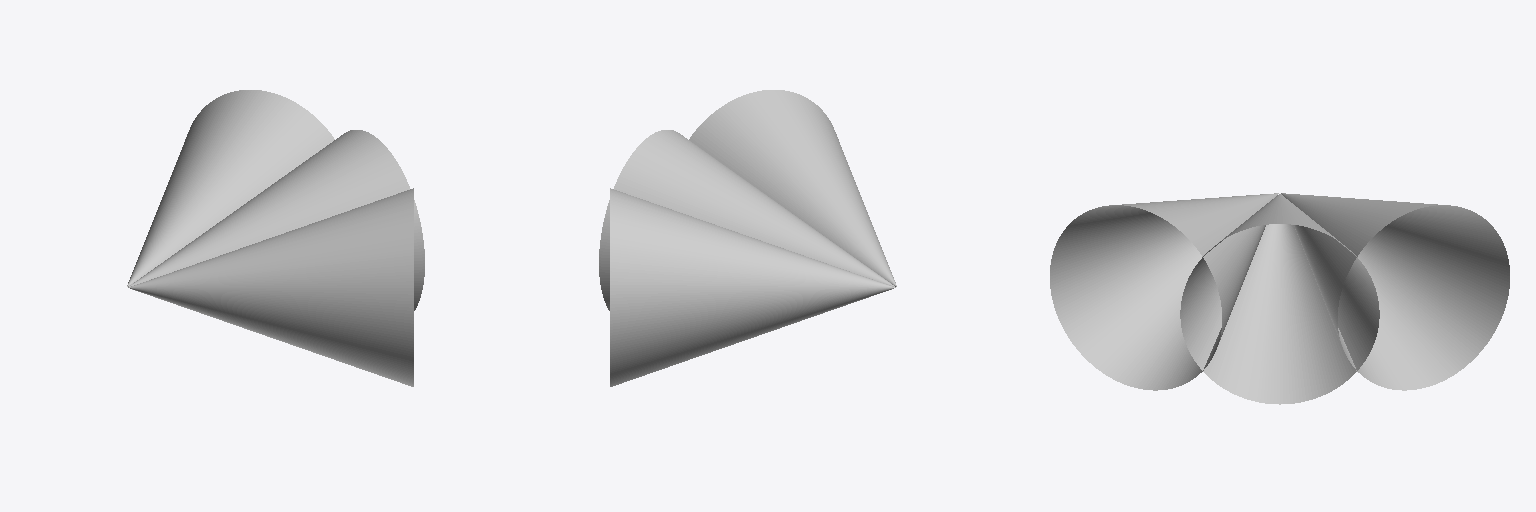
File: mid100-fov.obj
The picture shows the model from 3 angles: view 1: azimuth 30°, elevation 25°; view 2: azimuth 150°, elevation 25°; view 3: azimuth 270°, elevation 25°; orthographic projection.
Visible parts, largest first — view 1: NONE002, NONE001, NONE; view 2: NONE001, NONE002, NONE; view 3: NONE002, NONE001, NONE.
Boxes of the visible parts, box(x1,y1,x2,y2) form: NONE002: box(128, 188, 413, 386); NONE001: box(127, 90, 334, 286); NONE: box(129, 130, 424, 310); NONE001: box(610, 188, 895, 386); NONE002: box(689, 90, 896, 286); NONE: box(599, 130, 894, 310); NONE002: box(1050, 193, 1278, 390); NONE001: box(1281, 193, 1509, 390); NONE: box(1180, 194, 1379, 404).
Bounding box in the file's own units: 17667 × 11830 × 27347.